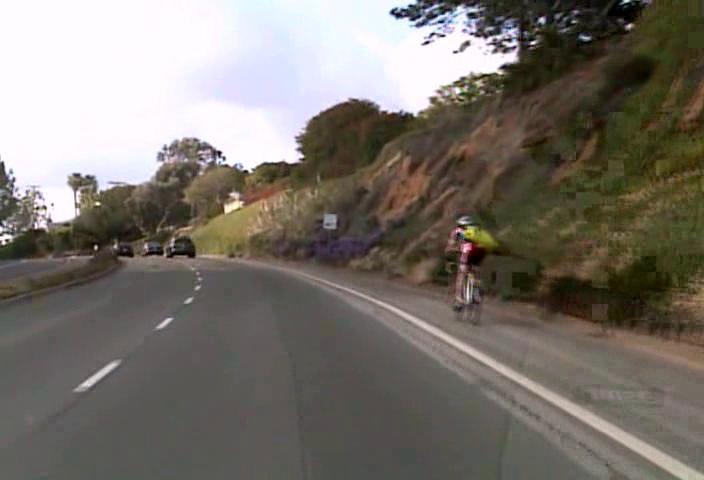speedLimitUrdbl: (322, 212, 337, 230)
